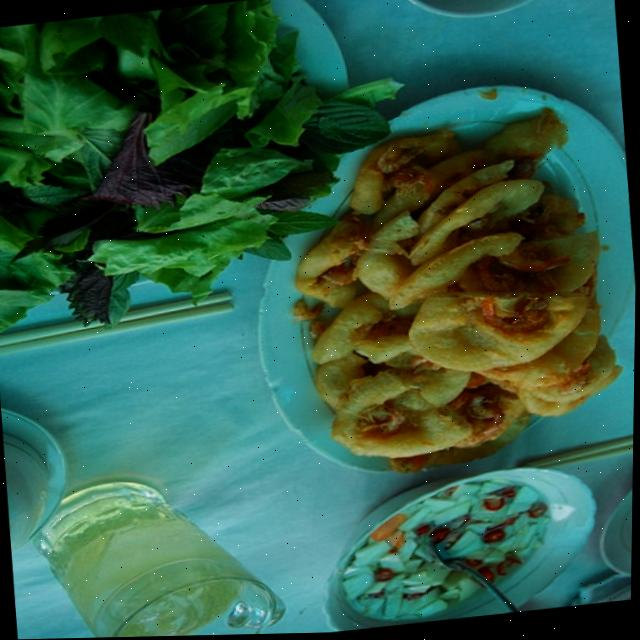炸货点心: (252, 53, 639, 501)
熟制海鲜: (252, 53, 639, 501)
